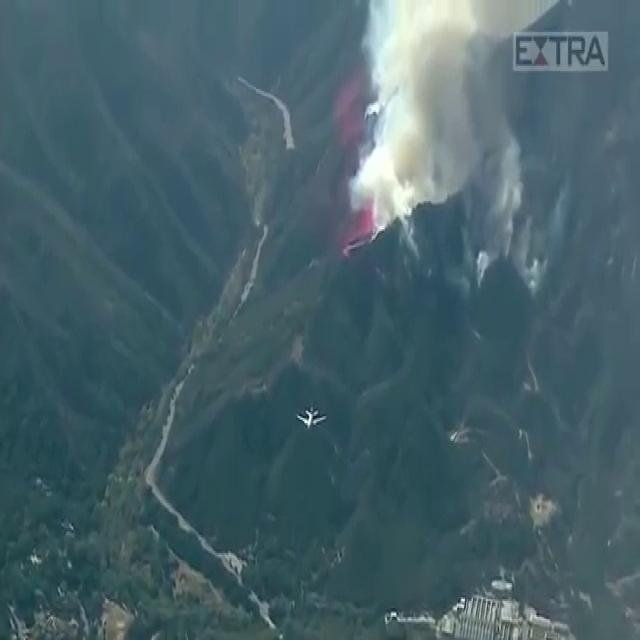Smoke: (357, 0, 547, 292)
